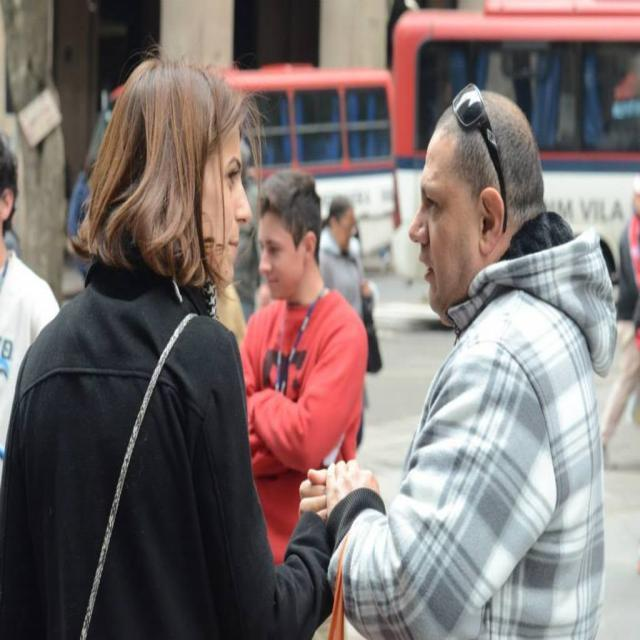Nonhelmet: (70, 56, 261, 291), (395, 80, 555, 326)
